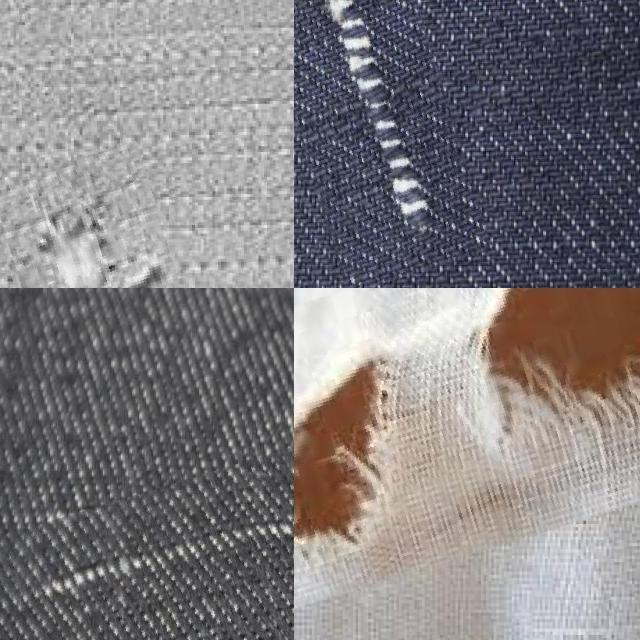other: (294, 288, 640, 577), (4, 149, 202, 288)
stains: (0, 411, 294, 640), (294, 0, 454, 288)
